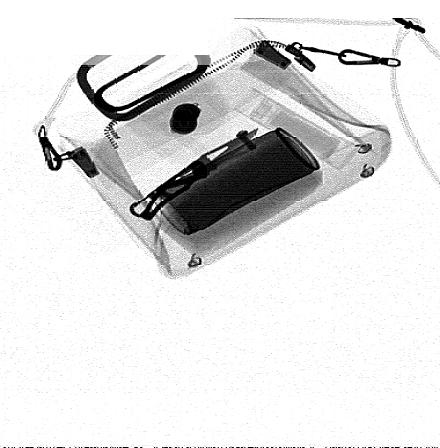Knife: (128, 126, 260, 221)
